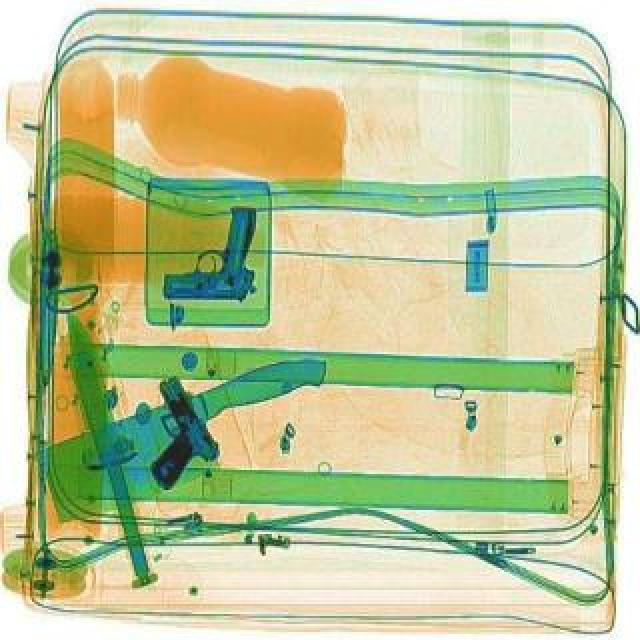gun: (112, 368, 228, 490), (160, 202, 260, 300)
knife: (26, 344, 352, 526), (56, 310, 160, 580), (26, 248, 62, 540)
